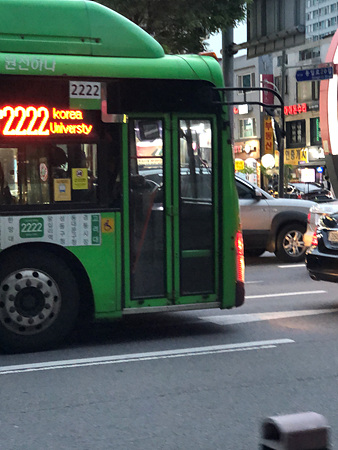entrance: (123, 109, 224, 313)
